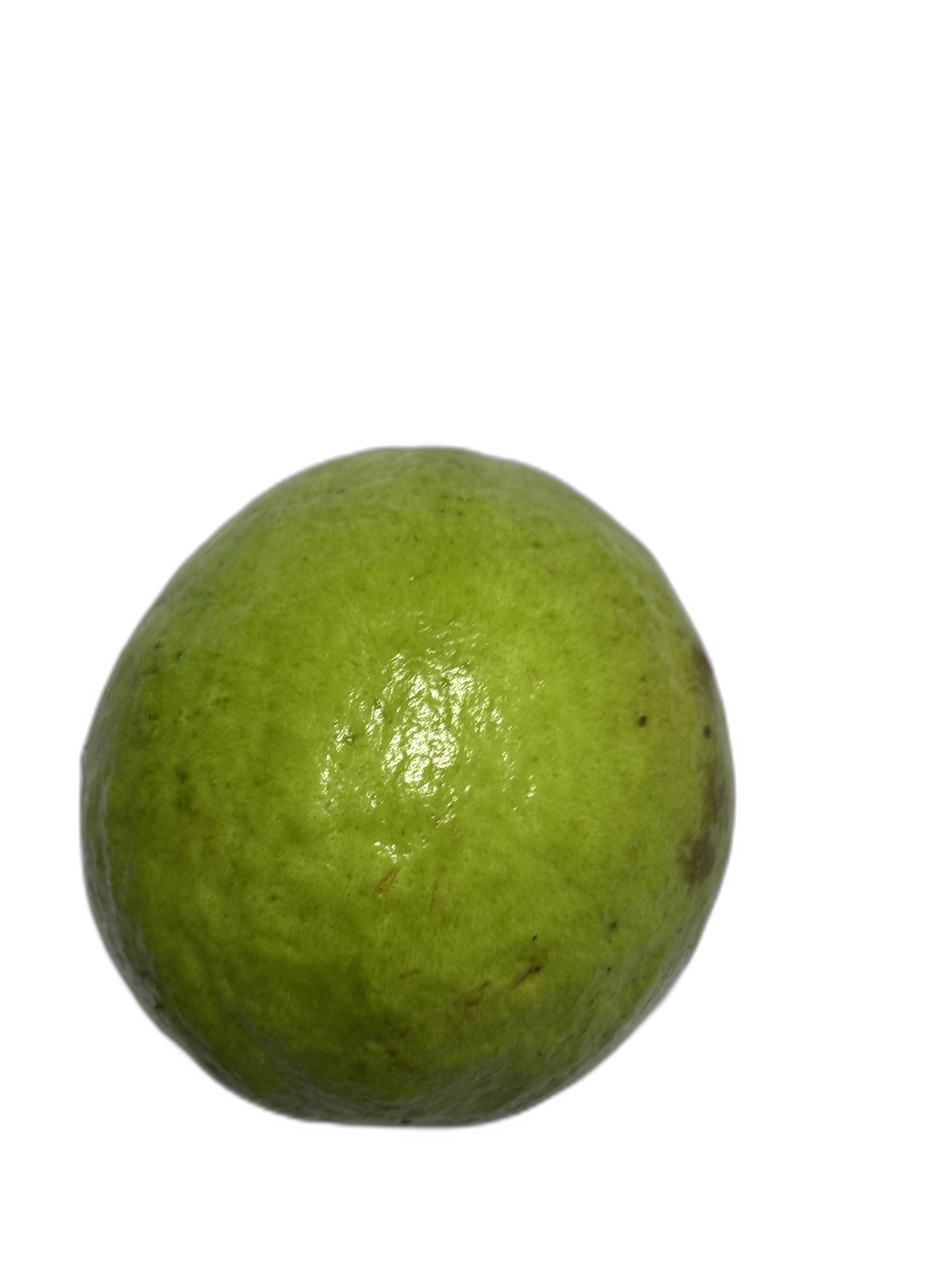guava: (175, 195, 938, 1060)
